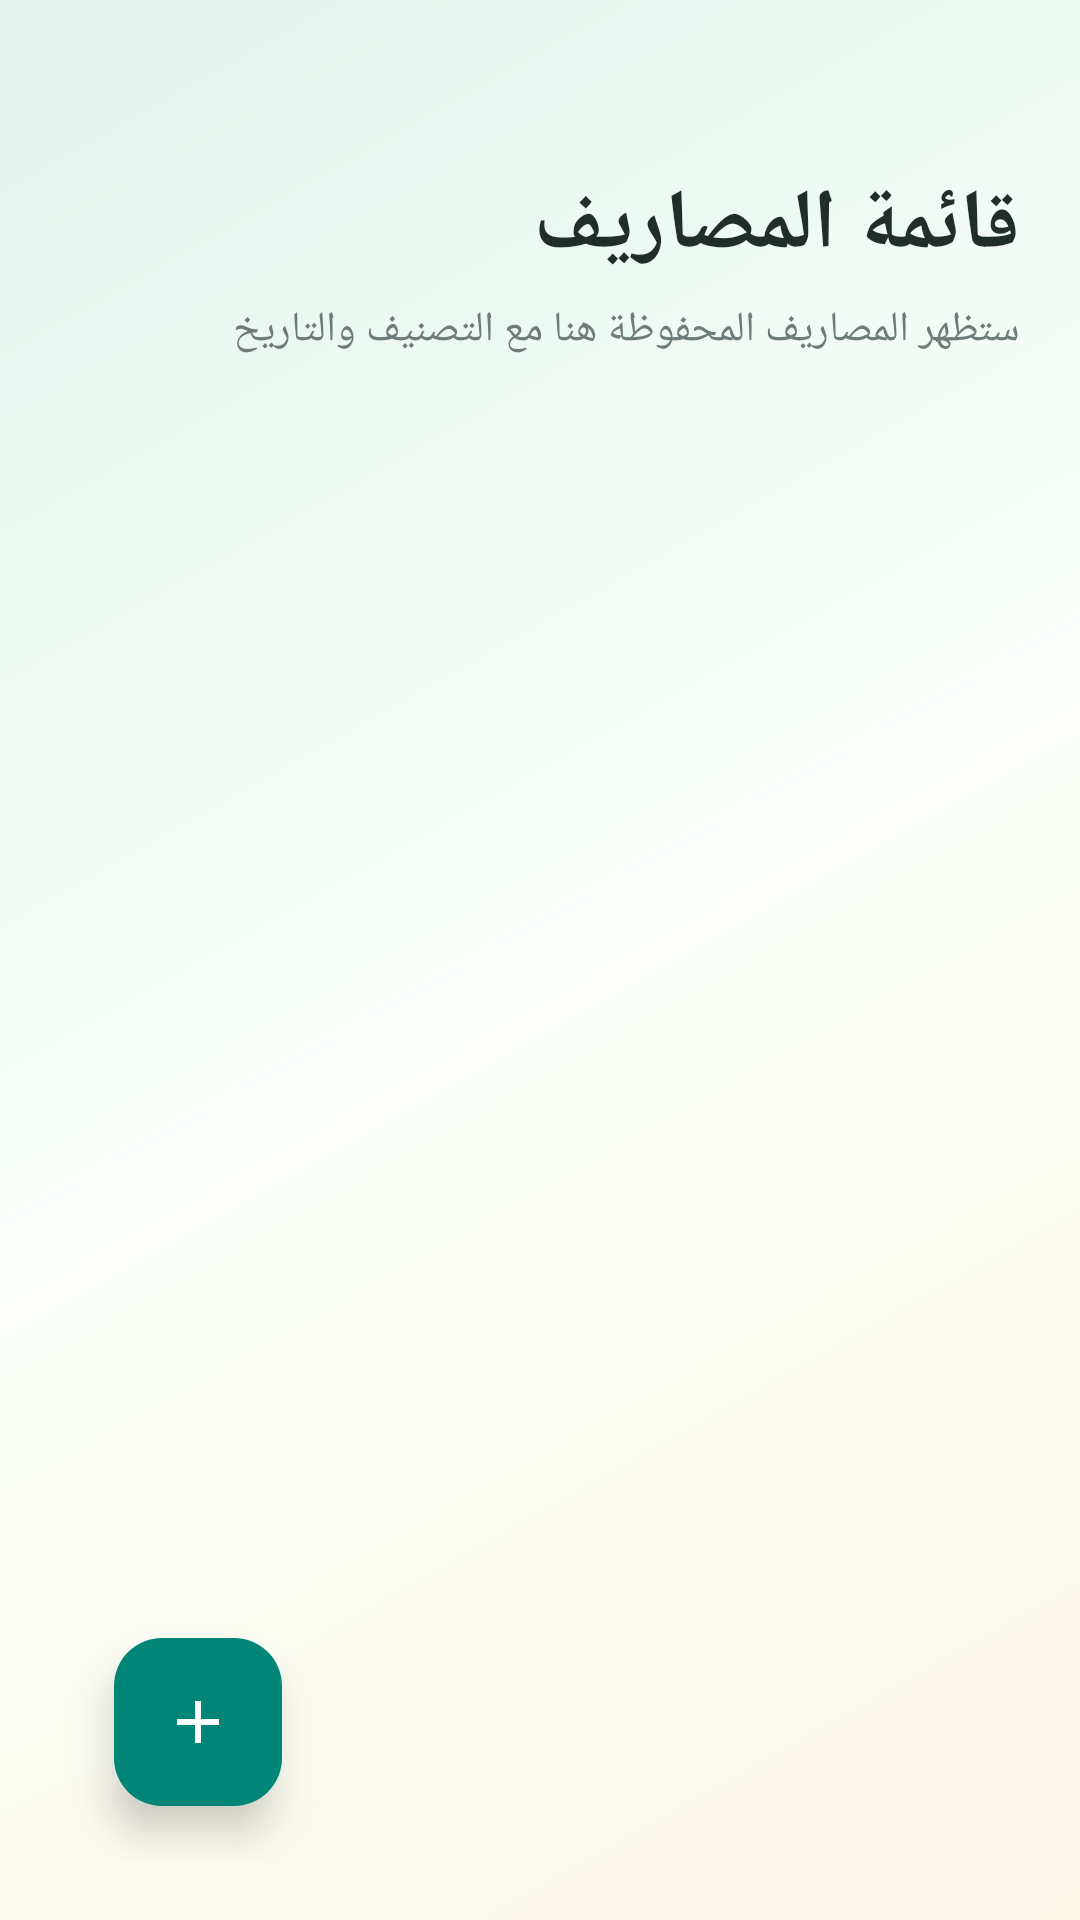

Icons on this 1080px x 1920px Android screen, each with its box as (x1, y1, x2, y2):
إضافة مصروف: (114, 1638, 282, 1806)
